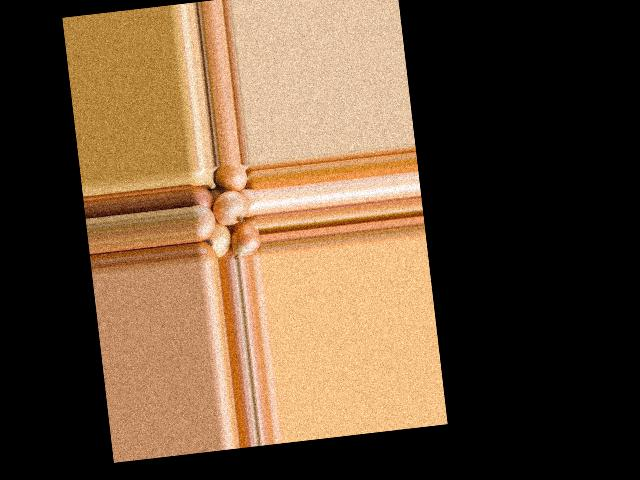onion: (238, 187, 257, 219)
